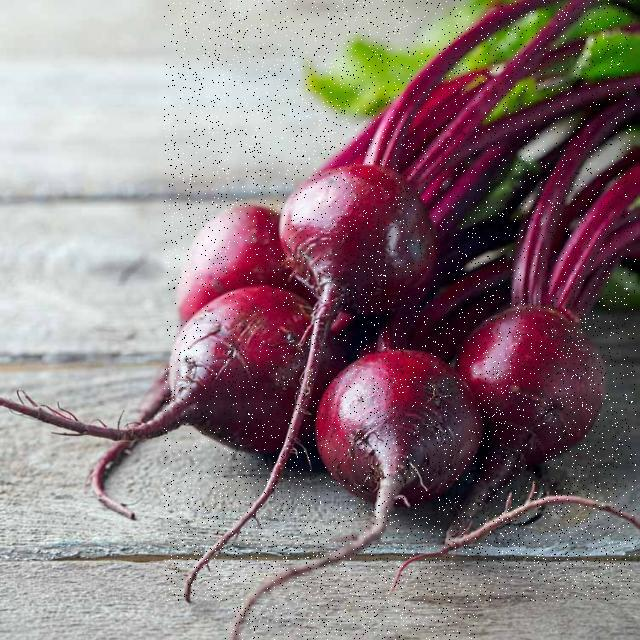Beetroot: (164, 0, 636, 601), (224, 338, 478, 640), (460, 300, 605, 564), (260, 152, 445, 322), (167, 291, 331, 468)
